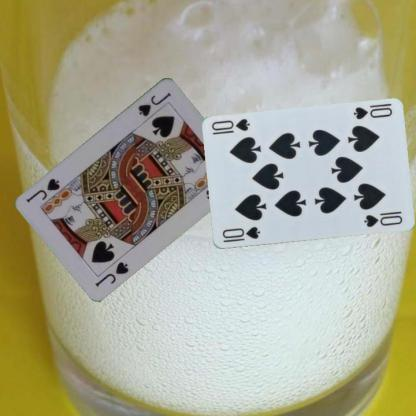10s: (219, 224, 262, 244), (350, 104, 394, 120)
Js: (92, 259, 130, 288), (136, 89, 172, 118)
